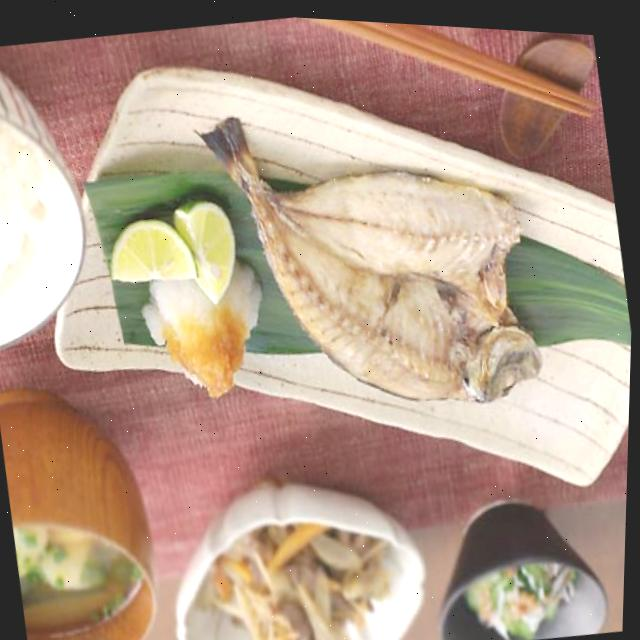熟制海鲜: (188, 69, 559, 442)
